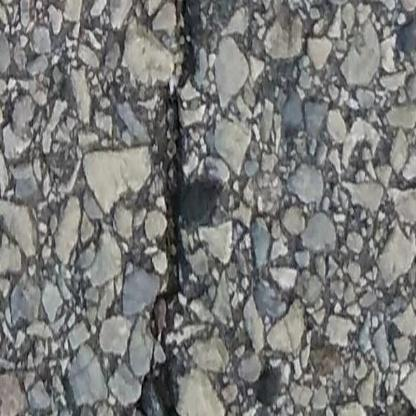Cracks: (144, 0, 206, 416)
